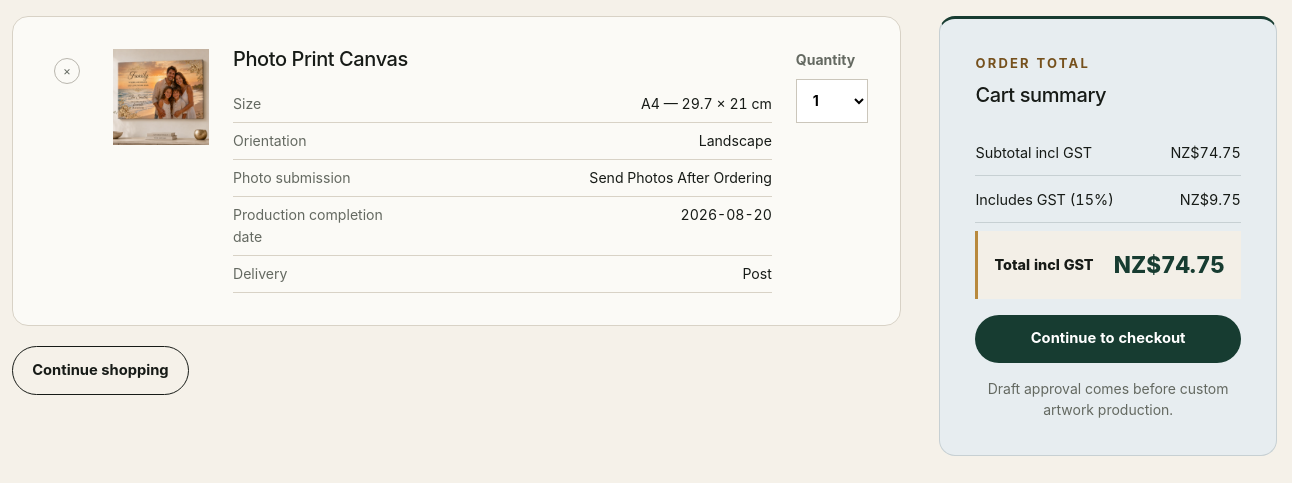
it: CartView › updates quantity and removes an item persistently
Check: the heading "Photo Print Canvas" is shown, box [233, 47, 408, 71]
Select "2" in the dropdown named "Quantity for Photo Print Canvas": (832, 101) [796, 79, 868, 123]
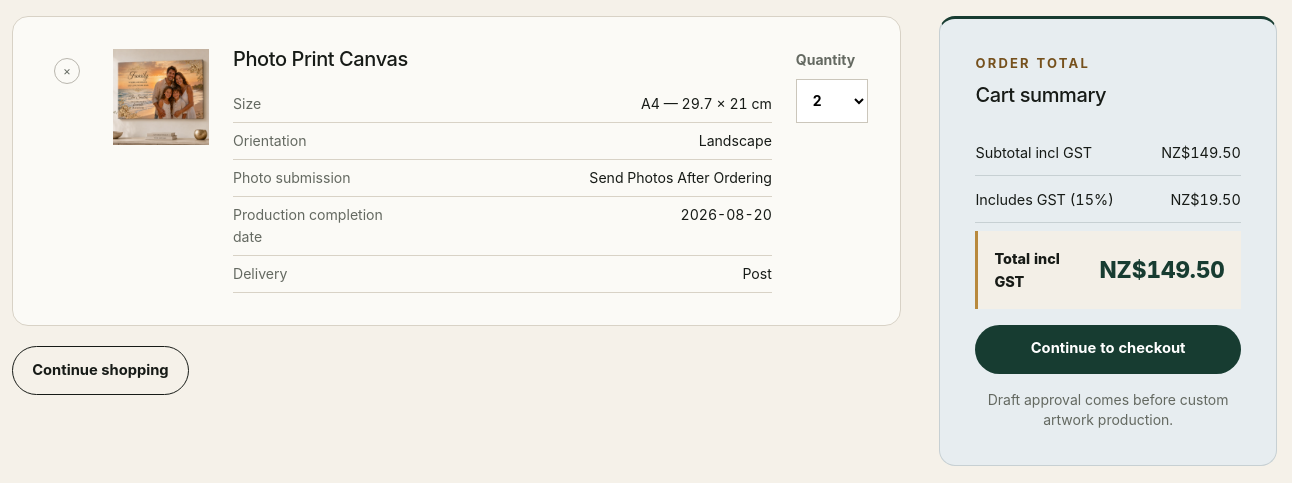
Check: the text "NZ$149.50" is shown 2 times, box [1161, 141, 1241, 164]; [1099, 252, 1225, 288]
Click the button named "Remove Photo Print Canvas": (67, 71) [45, 49, 89, 93]
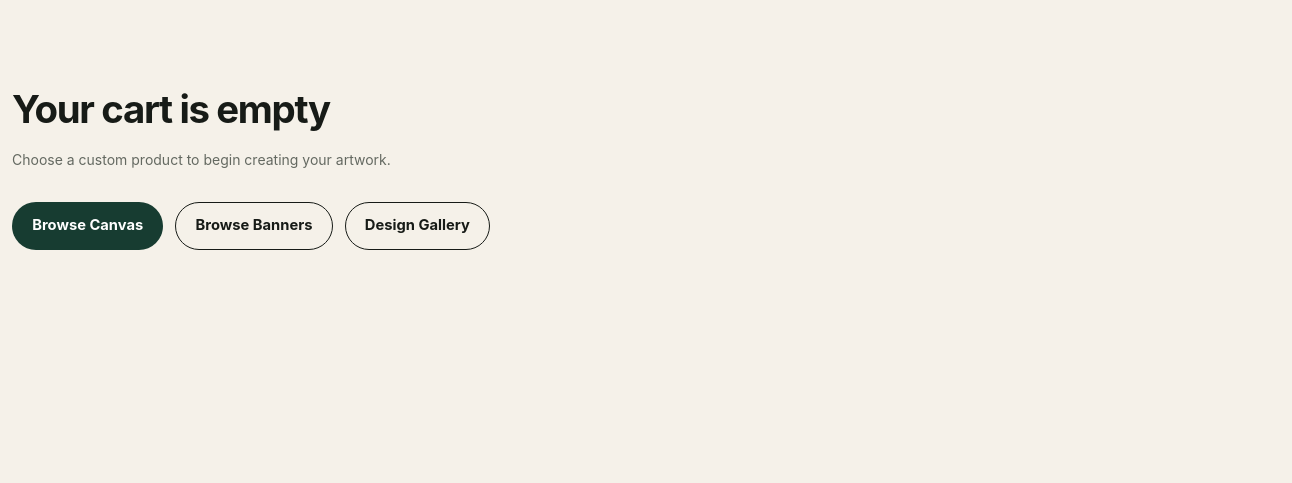
Check: the heading "Your cart is empty" is shown, box [12, 86, 330, 132]
